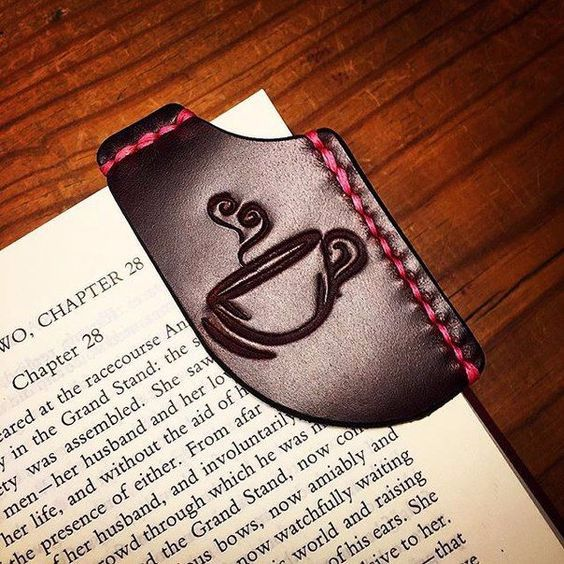cuero: (96, 102, 486, 427)
